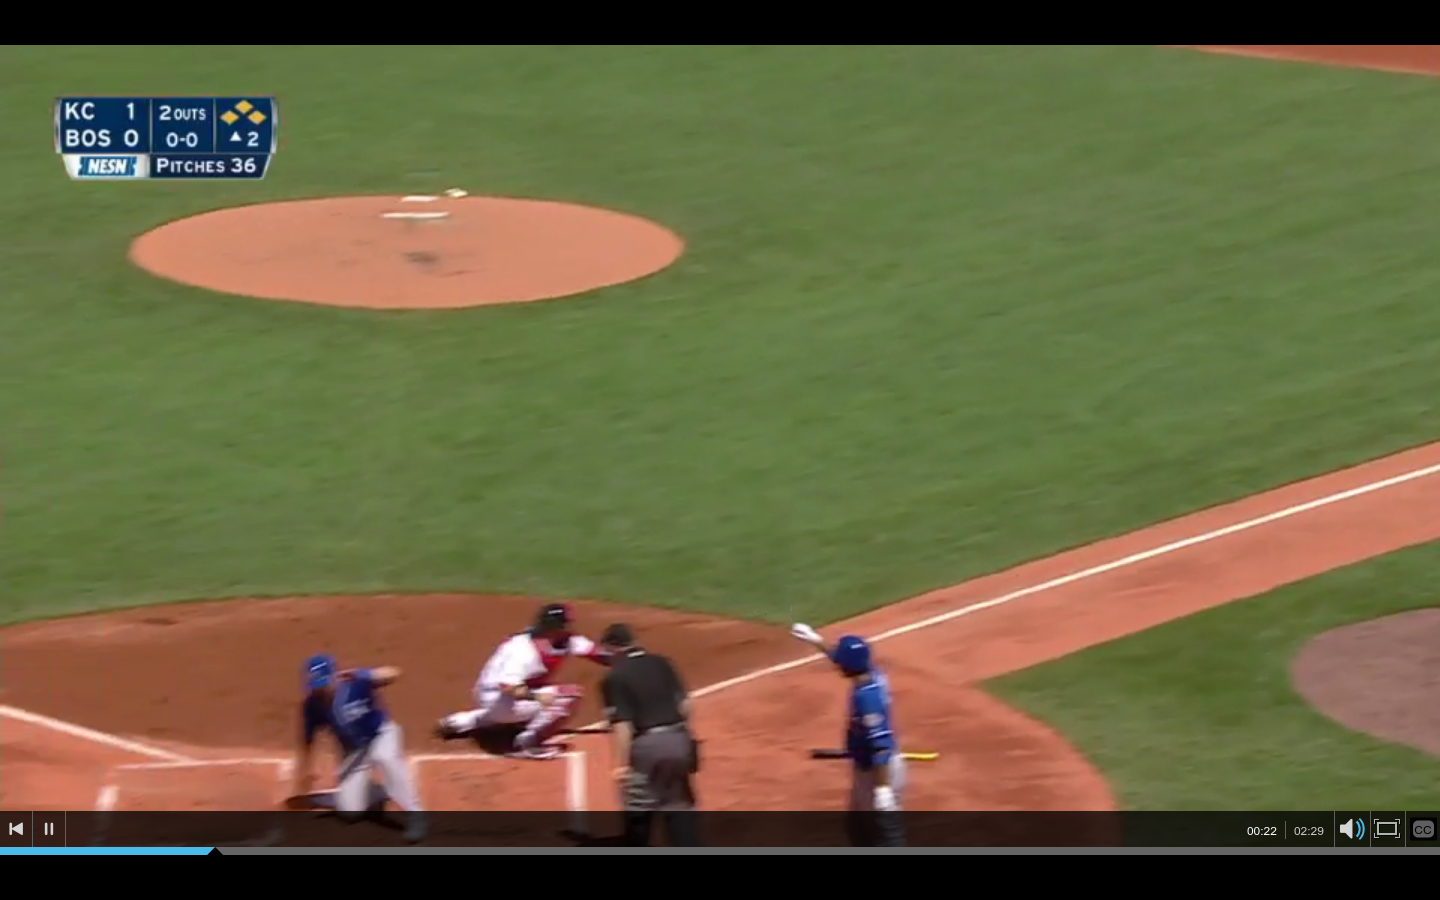baseball player: (793, 619, 928, 839), (292, 651, 427, 839), (436, 599, 595, 746)
referee: (596, 619, 710, 809)
